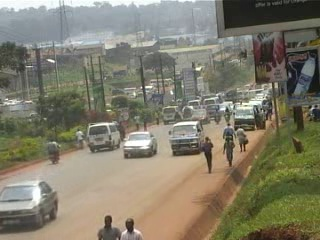Car: (0, 177, 60, 230), (122, 128, 159, 163), (187, 107, 211, 126), (204, 102, 221, 120), (218, 101, 229, 116)
Motorcycle: (44, 137, 64, 165), (172, 108, 184, 125), (222, 106, 233, 122), (213, 106, 222, 124)
